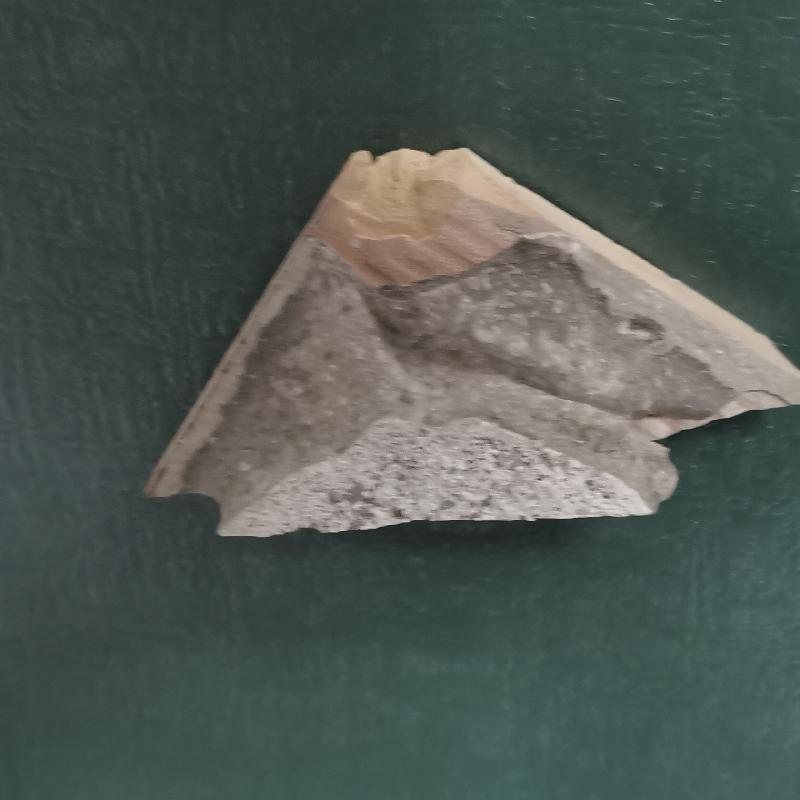tile: (140, 141, 800, 545)
